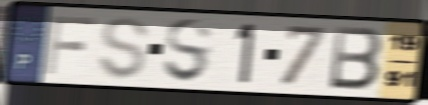1: (232, 22, 256, 86)
7: (279, 23, 328, 89)
B: (327, 24, 385, 93)
F: (42, 14, 98, 77)
S: (95, 15, 151, 82), (162, 17, 215, 86)
